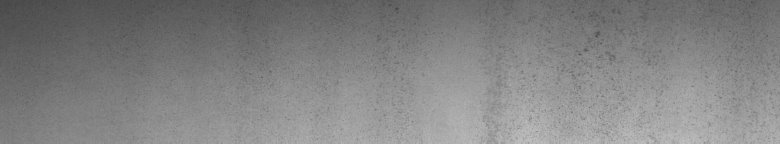ib: (521, 9, 656, 123)
